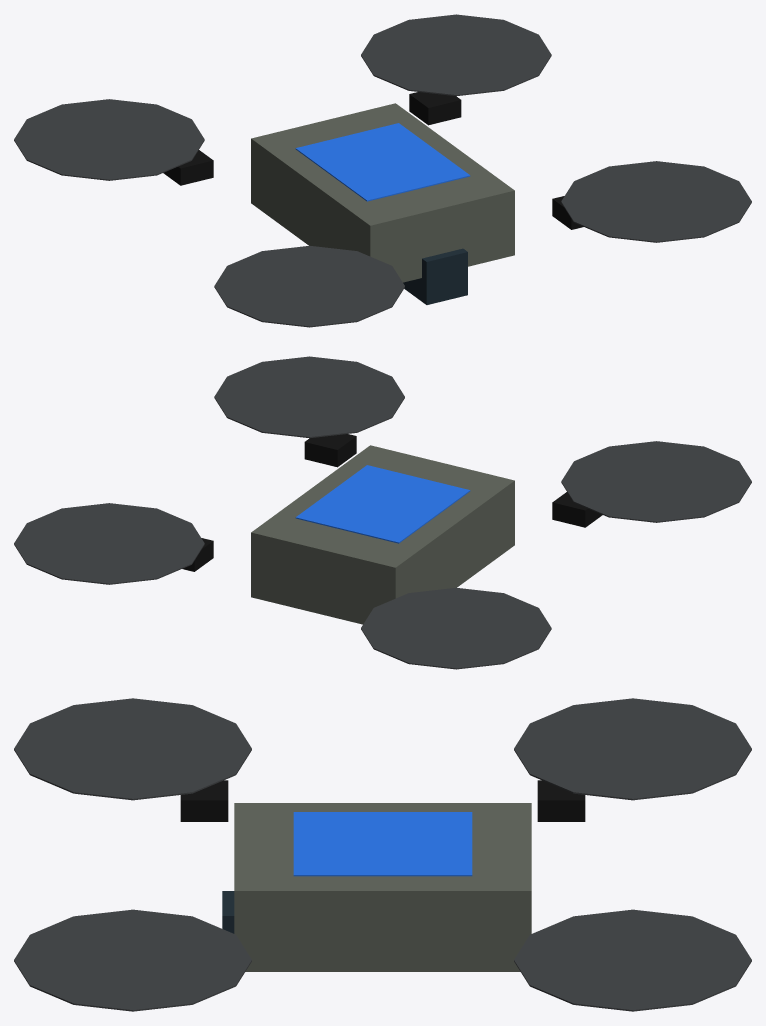
Rendered from eu_transport_heli.glb.
The picture shows the model from 3 angles, top to bottom: view 1: azimuth 30°, elevation 25°; view 2: azimuth 150°, elevation 25°; view 3: azimuth 270°, elevation 25°; orthographic projection. The views are drawn at different scales.
Visible parts, largest first — view 1: body, rotor_0, rotor_3, rotor_1, rotor_2, team_plate, camera_pod, arm_3, arm_2; view 2: body, rotor_1, rotor_2, rotor_0, rotor_3, team_plate, arm_1, arm_0; view 3: body, rotor_0, rotor_1, rotor_2, rotor_3, team_plate, arm_0, arm_2, camera_pod.
Boxes of the visible parts, x1,y1,x2,y2 form: body: (251, 103, 514, 282); rotor_0: (214, 245, 404, 327); rotor_3: (361, 14, 551, 96); rotor_1: (561, 161, 751, 242); rotor_2: (14, 99, 204, 180); team_plate: (295, 123, 470, 201); camera_pod: (403, 248, 467, 304); arm_3: (409, 92, 461, 125); arm_2: (163, 150, 213, 185); body: (251, 445, 514, 624); rotor_1: (214, 356, 404, 438); rotor_2: (361, 587, 551, 669); rotor_0: (561, 441, 751, 522); rotor_3: (14, 503, 204, 584); team_plate: (295, 465, 470, 543); arm_1: (304, 434, 356, 467); arm_0: (552, 492, 602, 527); body: (234, 803, 531, 971); rotor_0: (14, 698, 251, 800); rotor_1: (14, 909, 251, 1011); rotor_2: (514, 698, 751, 800); rotor_3: (514, 909, 751, 1011); team_plate: (293, 812, 472, 876); arm_0: (180, 780, 228, 821); arm_2: (537, 780, 585, 821); camera_pod: (222, 891, 234, 933).
Bounding box in the file's own units: 9.3 × 1.59 × 9.3.
